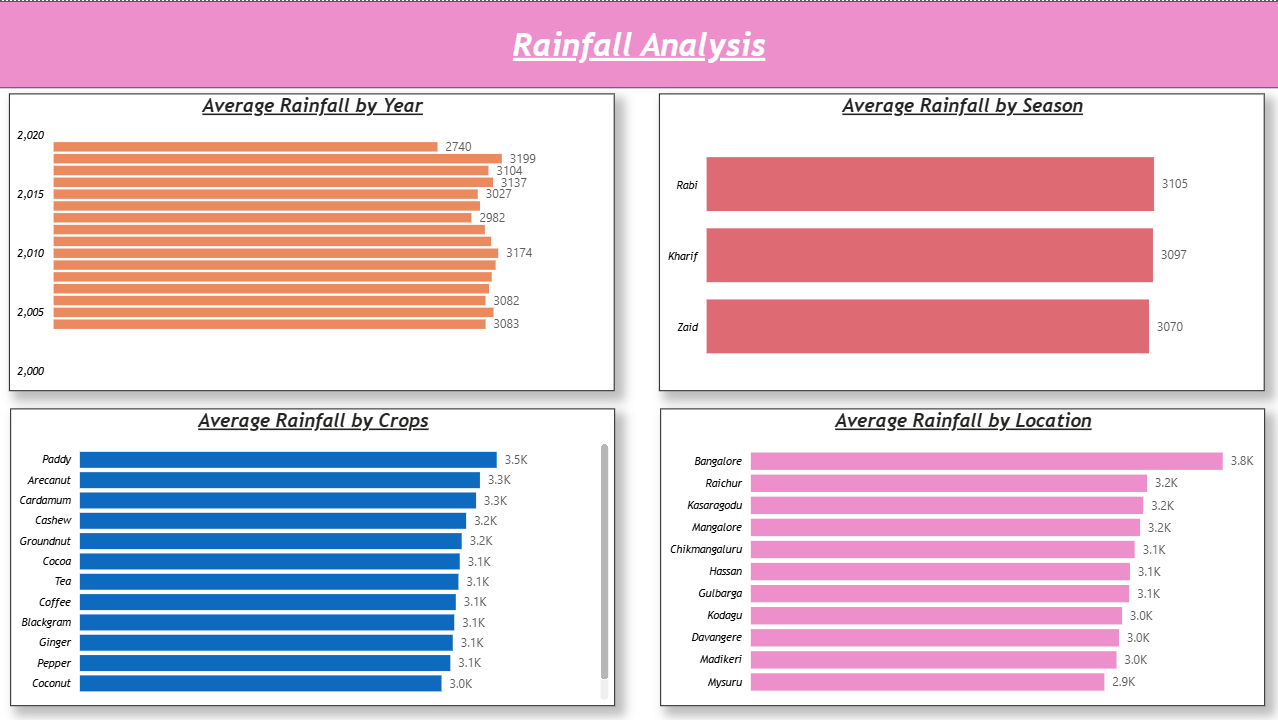

This screenshot's page, from the dashboard's own definition file:
{"tool":"powerbi","page":{"name":"RainFall Analysis","canvas":[1280,720],"ordinal":0},"visuals":[{"type":"shape","box":[0,0,1280.2,87.2],"z":0},{"type":"barChart","title":"Average Rainfall by Year","fields":{"Y":["Avg(AGRICULTURE.RAINFALL)"],"Category":["AGRICULTURE.YEAR"]},"box":[10.5,93,605.8,297.7],"z":1000},{"type":"barChart","title":"Average Rainfall by Season","fields":{"Y":["Avg(AGRICULTURE.RAINFALL)"],"Category":["AGRICULTURE.SEASON"]},"box":[660.5,93,605.8,297.7],"z":2000},{"type":"barChart","title":"Average Rainfall by Crops","fields":{"Y":["Avg(AGRICULTURE.RAINFALL)"],"Category":["AGRICULTURE.CROPS"]},"box":[11.6,407,604.7,297.7],"z":3000},{"type":"barChart","title":"Average Rainfall by Location","fields":{"Y":["Avg(AGRICULTURE.RAINFALL)"],"Category":["AGRICULTURE.LOCATION"]},"box":[661.6,407,604.7,297.7],"z":4000}]}

Visuals, with their boxes in screenshot pixels (x1, y1, x2, y2), scaled from the page's 1280x720 canvas onto the 1278x720 screenshot:
shape: box(0, 0, 1277, 87)
"Average Rainfall by Year" barChart: box(10, 93, 615, 391)
"Average Rainfall by Season" barChart: box(659, 93, 1264, 391)
"Average Rainfall by Crops" barChart: box(12, 407, 615, 705)
"Average Rainfall by Location" barChart: box(661, 407, 1264, 705)
